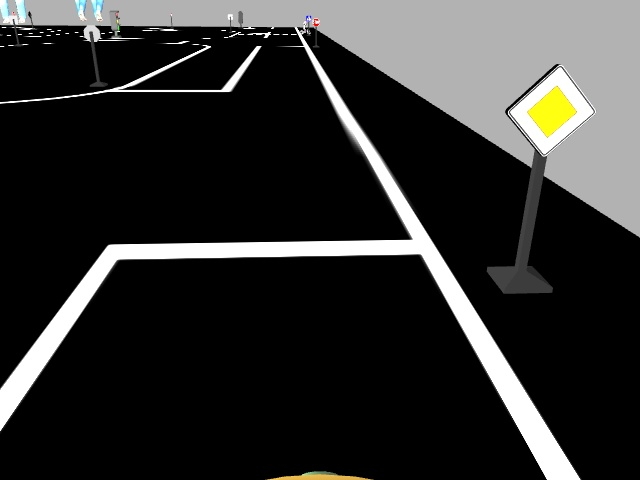Priority: (507, 63, 595, 157)
